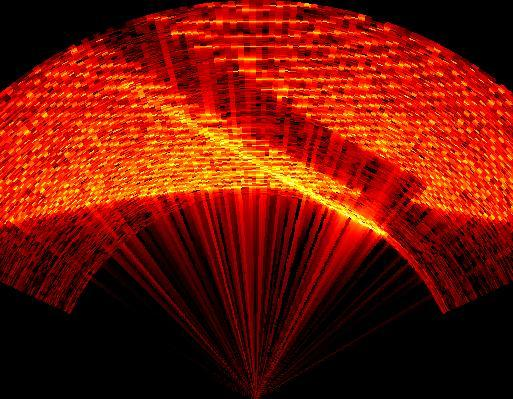pipe: (94, 16, 428, 228)
